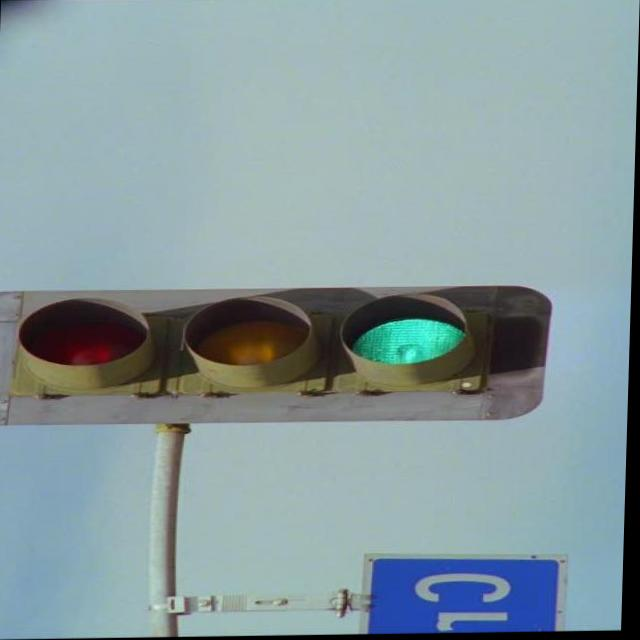green light: (16, 298, 492, 398)
